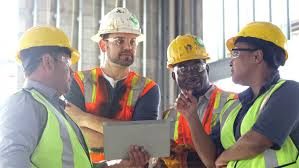Person_wearing_helmet: (13, 18, 80, 57), (224, 18, 287, 58), (90, 6, 143, 45), (165, 31, 209, 71)
